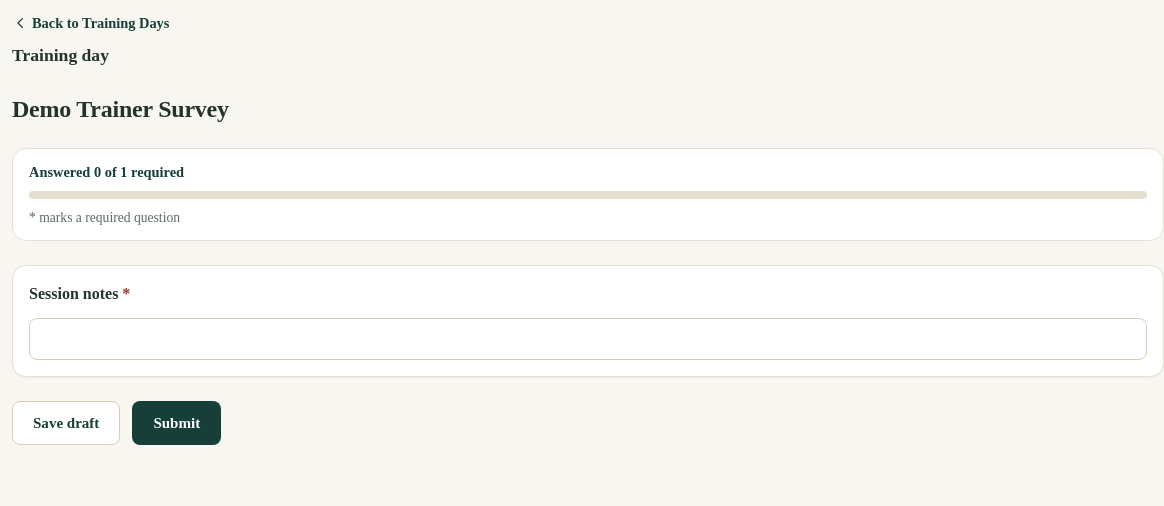
it: Trainer report page › saves a draft without finalizing the report
The width and height of the screenshot is (1164, 506).
Expected: the text "Session notes" is shown, [29,285,118,302]
Type "In progress note" into the field labelled "Session notes*" at (588, 339), box [29,318,1147,360]
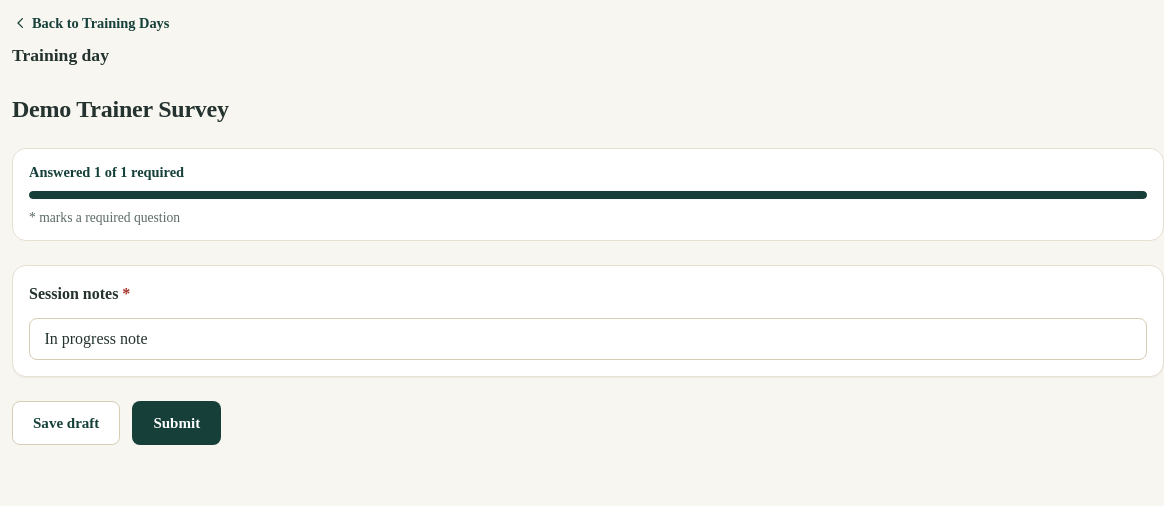
Click the button "Save draft" at (66, 423), box [12,401,120,445]
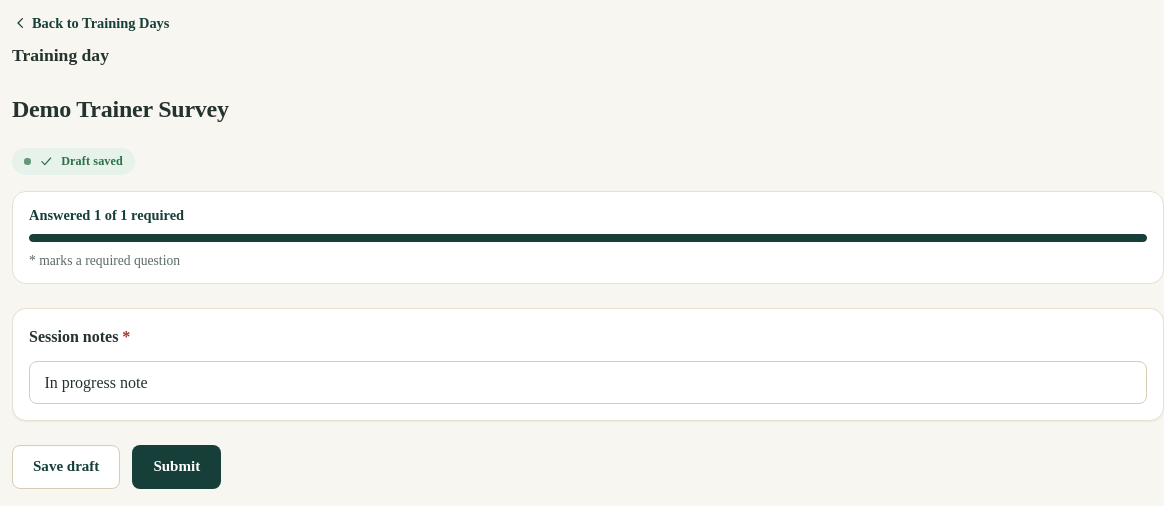
Expected: the button "Submit" is shown, [132,445,221,489]
Now the text "Draft saved" is shown, box [12,148,135,175]
Now the message reads "Draft saved", box [61,154,123,168]
